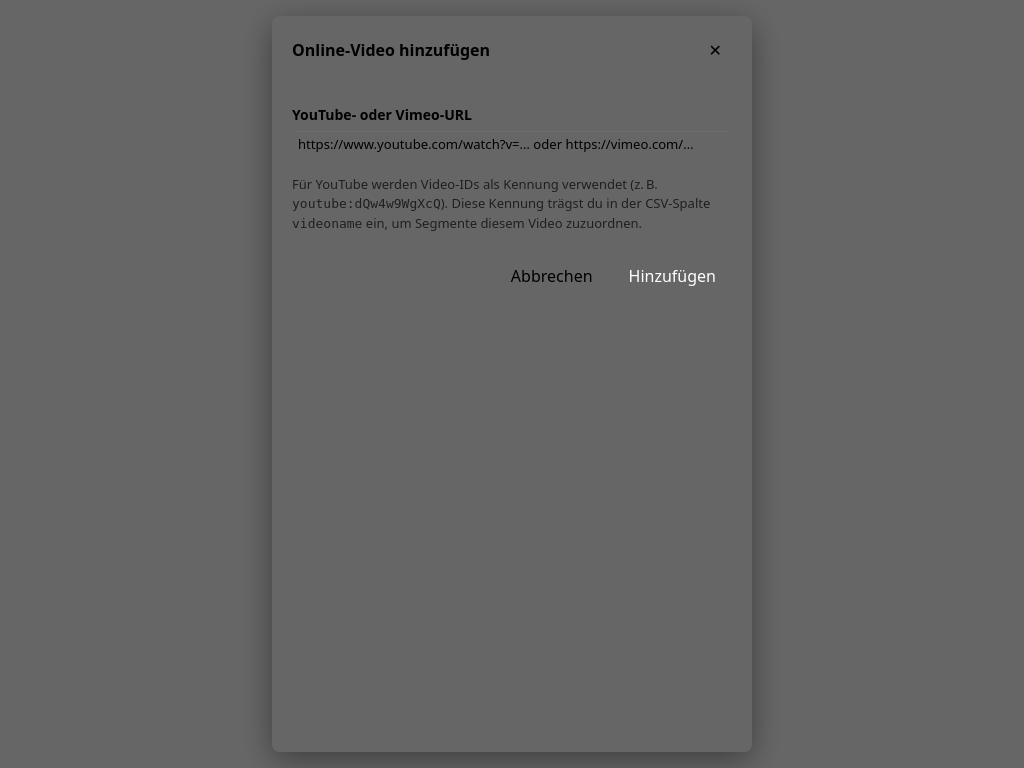
Test case: AddOnlineVideoDialog – validation › shows an error when submitting an empty URL
What coordinates should you click on to do the following:
click the button "Hinzufügen"
I would click on:
 (672, 276)
Its box is [613,253,732,299].
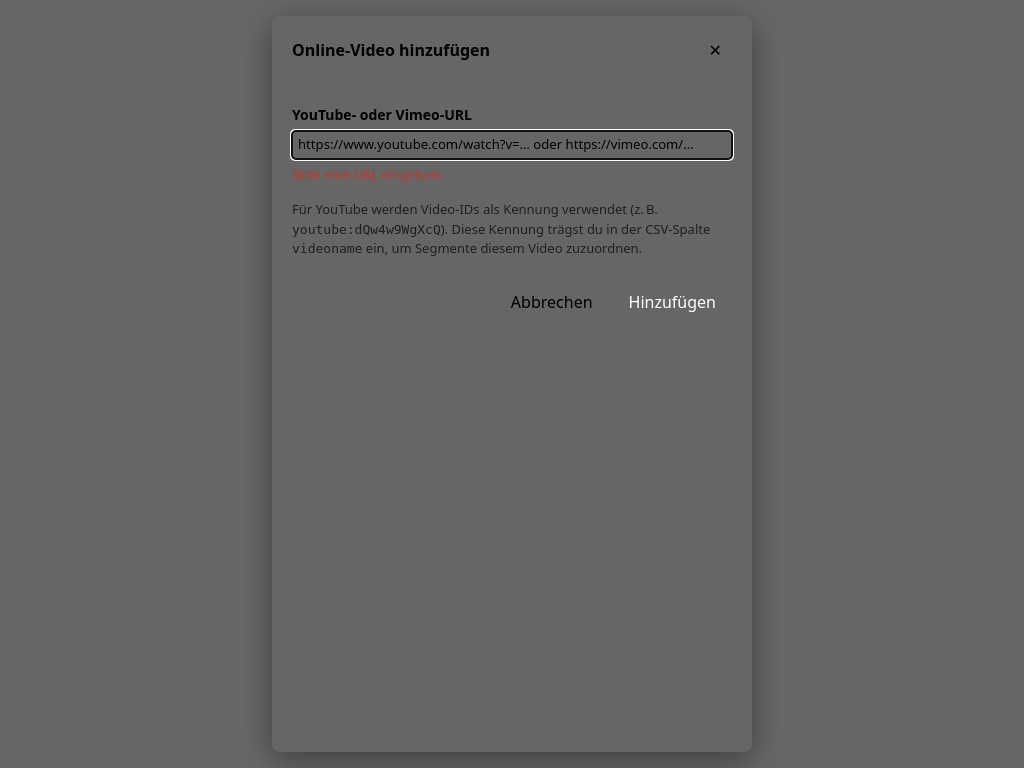
Now the message shows "Bitte eine URL eingeben", box [292,165,442,183]
